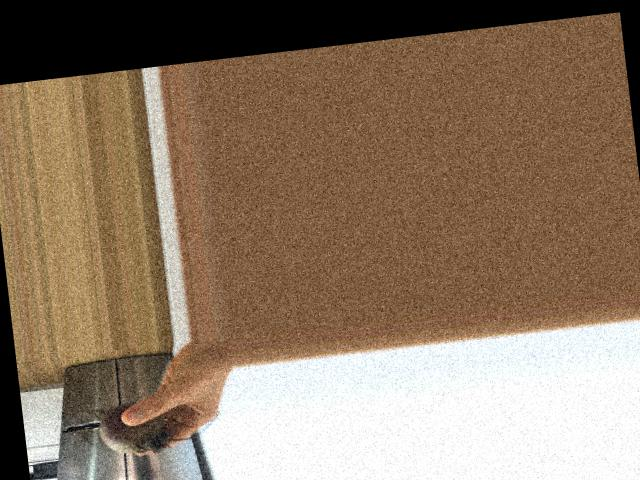beet: (85, 393, 223, 460)
